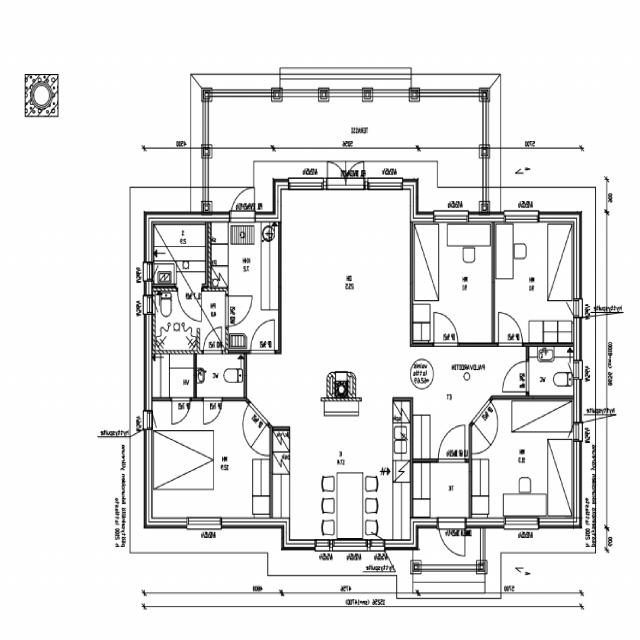door: (472, 399, 508, 444), (233, 402, 268, 447), (438, 518, 466, 562), (439, 425, 465, 463), (231, 182, 255, 222), (178, 284, 201, 321), (502, 362, 530, 392), (225, 295, 252, 326), (251, 320, 275, 354), (499, 314, 522, 346), (434, 314, 457, 346), (326, 155, 346, 189), (346, 155, 364, 189), (204, 327, 222, 354), (204, 398, 222, 424), (172, 398, 190, 424)
